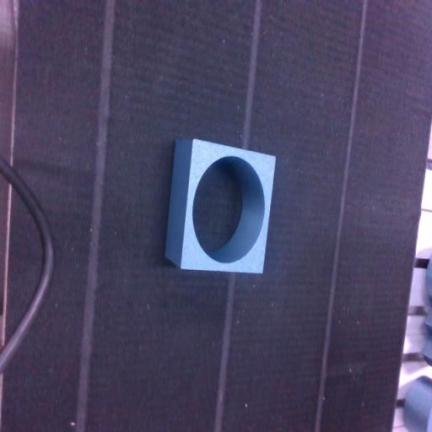square: (166, 140, 275, 273)
